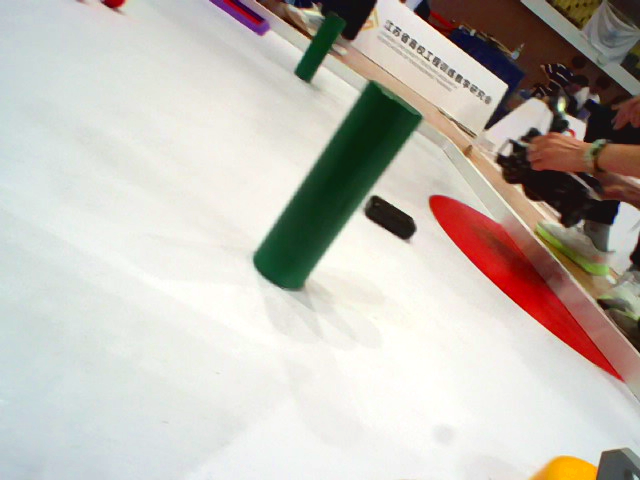black: (363, 196, 418, 243)
kuang: (202, 1, 274, 38)
yellow: (528, 452, 622, 480)
zhuzi: (254, 79, 424, 296), (292, 12, 343, 86)
